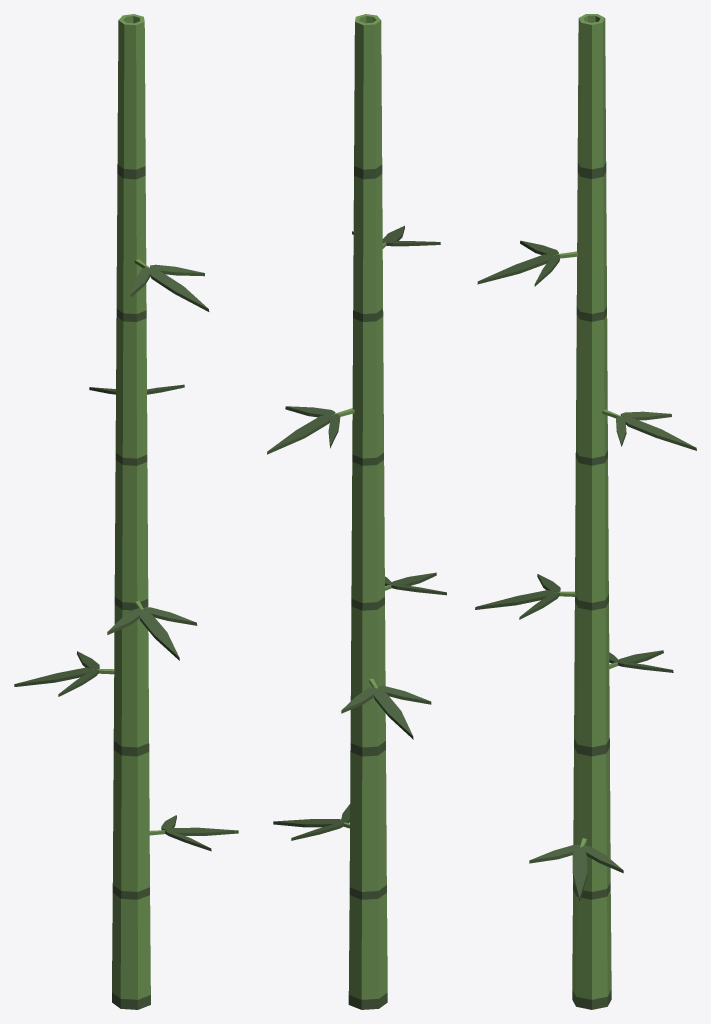
Rendered from Bamboo_4.glb.
The picture shows the model from 3 angles, left to right: view 1: azimuth 30°, elevation 25°; view 2: azimuth 150°, elevation 25°; view 3: azimuth 270°, elevation 25°; orthographic projection.
Parts seen in each view (by area): view 1: Bamboo_4; view 2: Bamboo_4; view 3: Bamboo_4.
Boxes of the visible parts, x1,y1,x2,y2 form: Bamboo_4: (14,14,238,1009); Bamboo_4: (267,14,446,1009); Bamboo_4: (475,14,696,1009).
Bounding box in the file's own units: 0.5299 × 2.73 × 0.5582.
